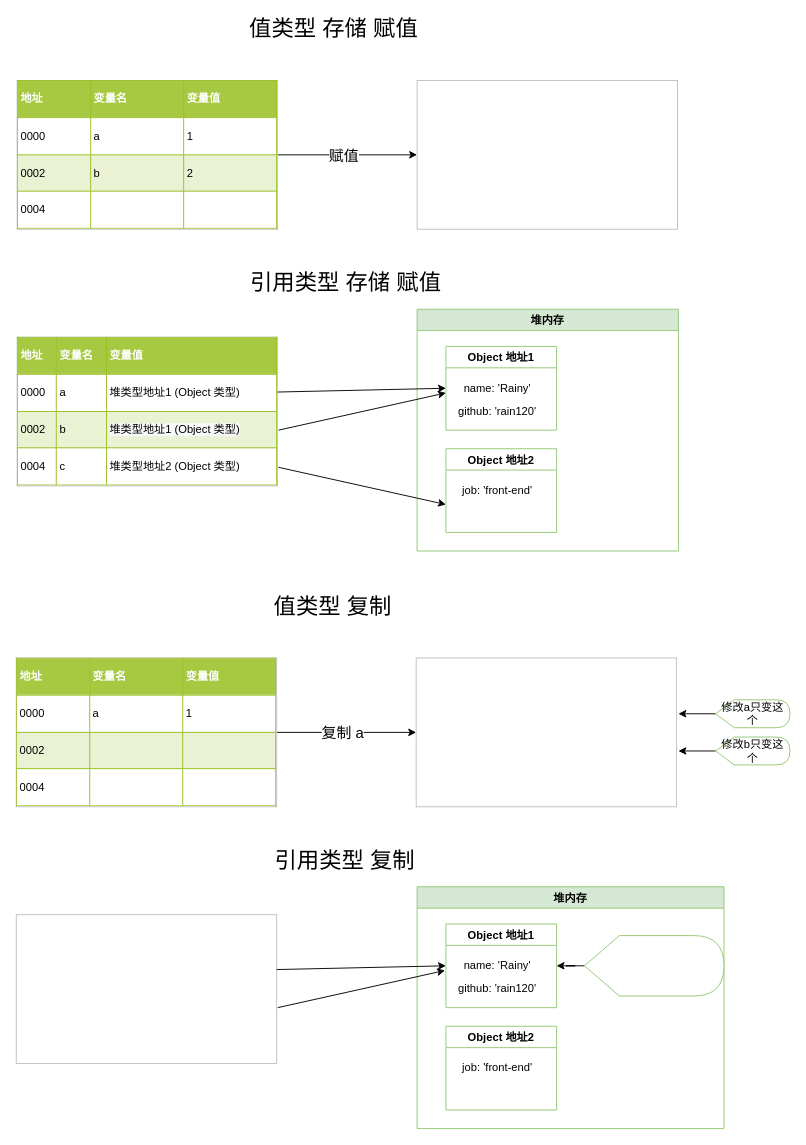
Image size: 806x1145. Some labels were removed from this diagram. The shapes that lost their labels are listed below. From the top down, each one's box as (x1, y1, x2, y2) in pixels, then its label:
(416, 80, 678, 229): 地址 变量名 变量值 0000 a 1 0002 b 2 0004 a 11
(415, 657, 677, 807): 地址 变量名 变量值 0000 a 1 0002 b 1 0004
(584, 935, 724, 996): 修改a b 都会修改这个对象
(15, 914, 277, 1063): 地址 变量名 变量值 0000 a 堆类型地址1 (Object 类型) 0002 b 堆类型地址1 (Object 类型) 0004
